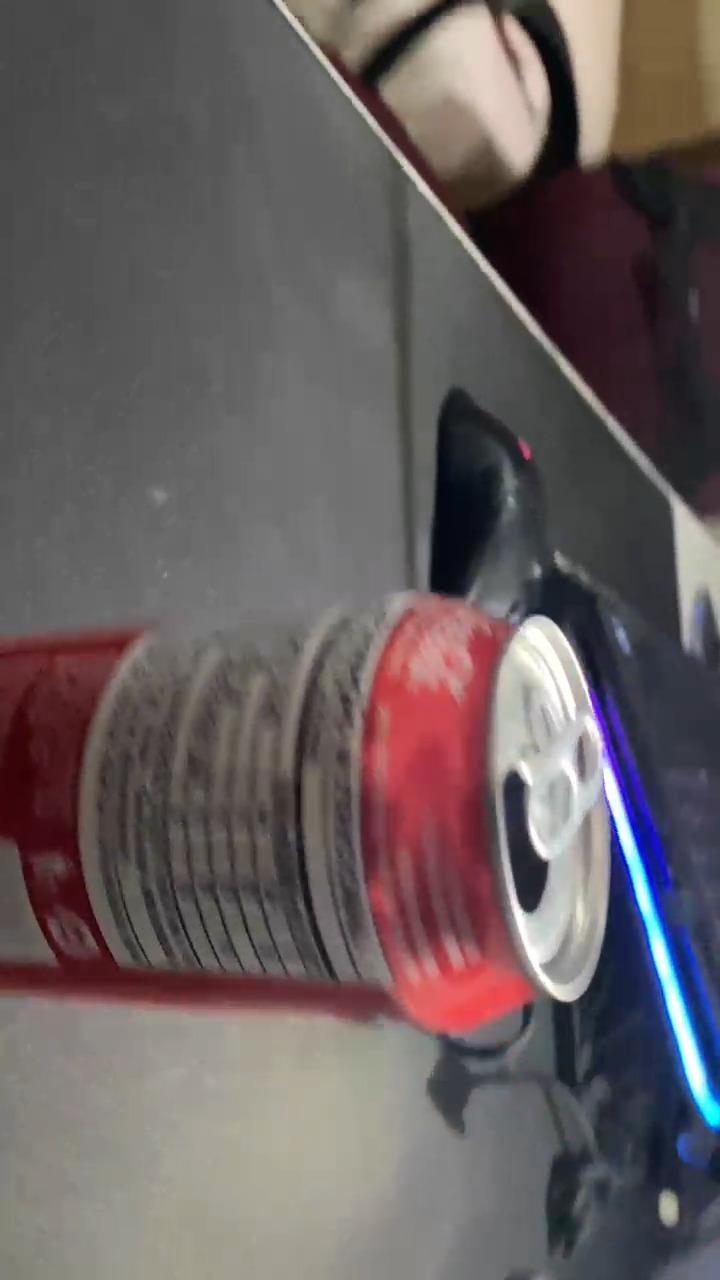coke: (0, 591, 614, 1033)
